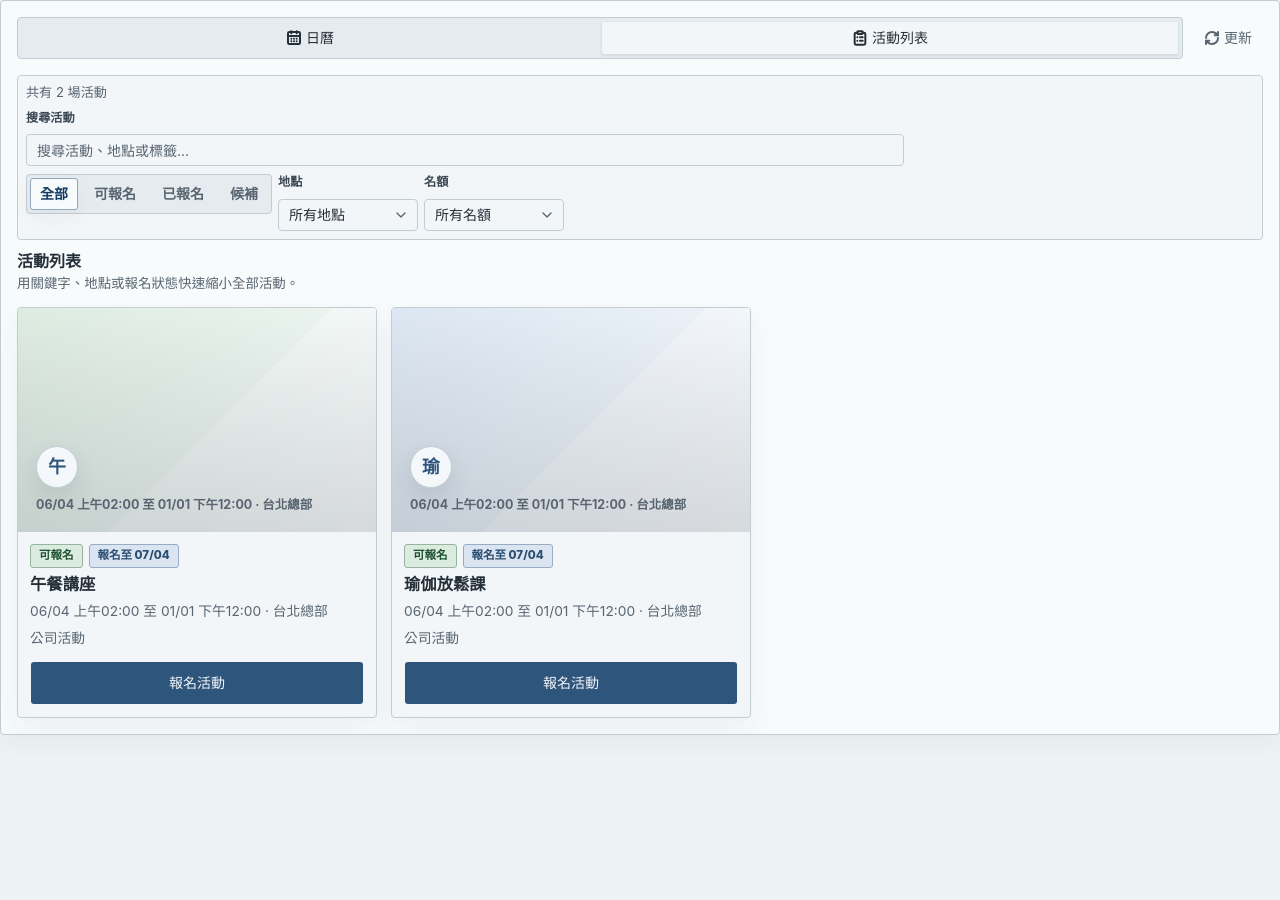
Test case: EmployeeEventsPage discovery controls › updates the URL and calendar results from lightweight search
Check: the heading "午餐講座" is shown, box x1=30 y1=574 x2=95 y2=594
Type "wellbeing" into the search field labelled "搜尋活動" at (465, 150), box x1=26 y1=134 x2=904 y2=166
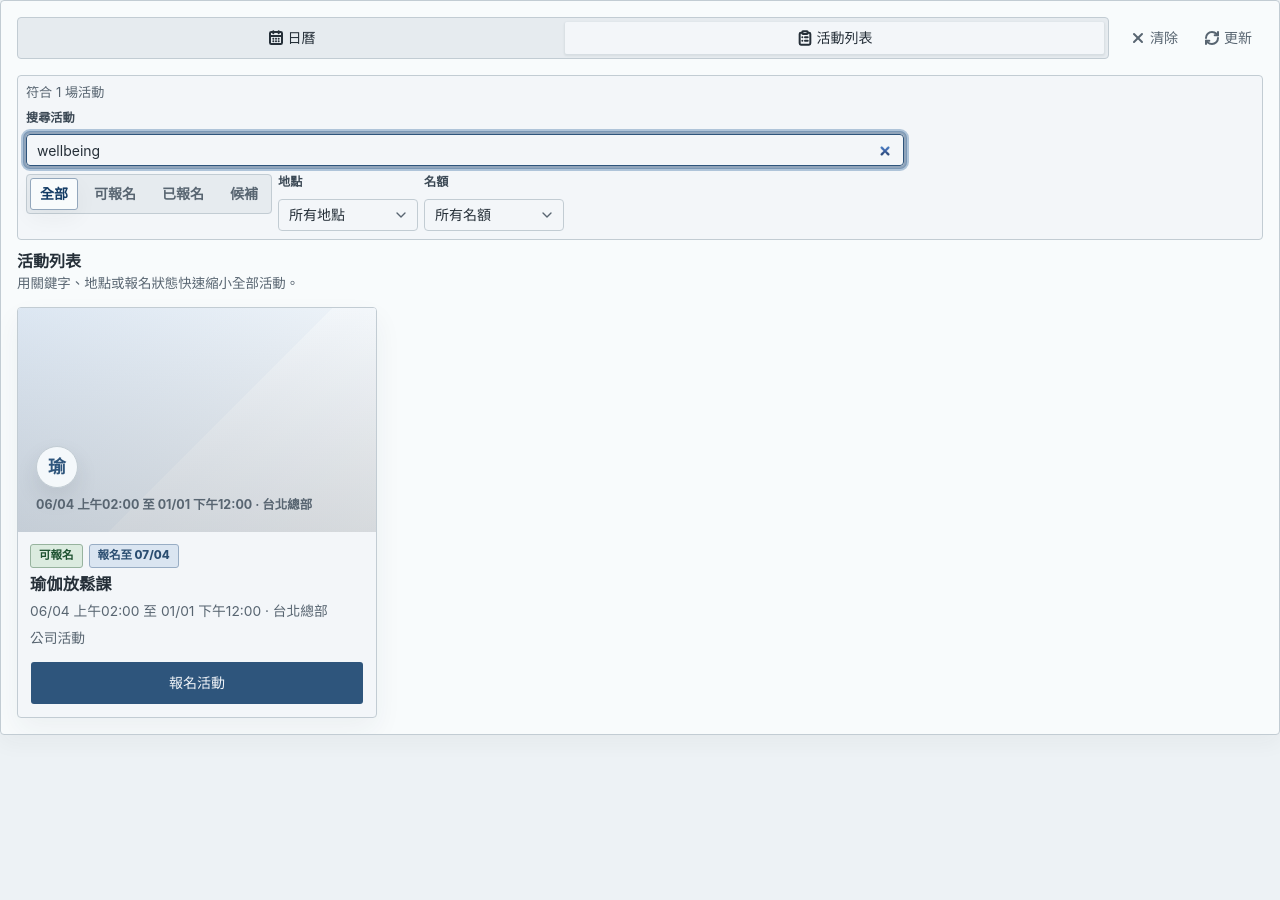
Check: the heading "瑜伽放鬆課" is shown, box x1=30 y1=574 x2=112 y2=594
Check: the heading "午餐講座" is gone
Check: the text "符合 1 場活動" is shown, box x1=26 y1=84 x2=104 y2=102
